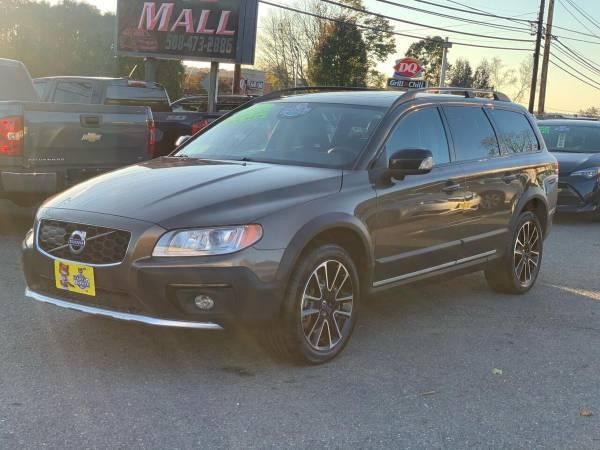Front_Bumper: (20, 232, 300, 329)
Front_Fender: (243, 172, 370, 291)
Front_Left_Door: (366, 162, 463, 289)
Front_Left_Window: (368, 103, 454, 169)
Front_Windshield: (170, 103, 389, 172)
Grille: (35, 222, 138, 270)
Hood: (34, 159, 339, 233)
Left_Headlight: (147, 226, 261, 261)
Rear_Fender: (485, 107, 557, 213)
Rear_Left_Door: (453, 157, 516, 268)
Rear_Left_Window: (443, 104, 506, 161)
Roof: (248, 86, 544, 168)
Wheel: (253, 241, 366, 366), (483, 210, 543, 295)
